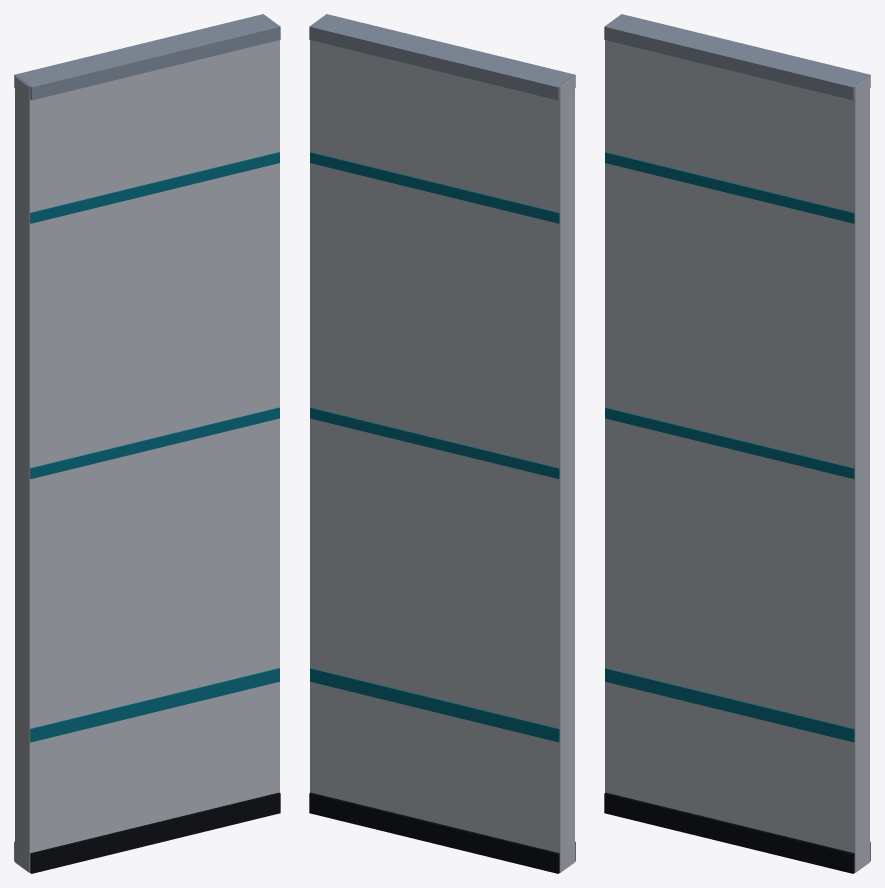
Rendered from SM_Wall_2x6.glb.
The picture shows the model from 3 angles, left to right: view 1: azimuth 30°, elevation 25°; view 2: azimuth 150°, elevation 25°; view 3: azimuth 330°, elevation 25°; orthographic projection.
Parts seen in each view (by area): view 1: SM_Wall_2x6-col; view 2: SM_Wall_2x6-col; view 3: SM_Wall_2x6-col.
Part boxes in pixels (x1,y1,x2,y2): SM_Wall_2x6-col: [14, 14, 280, 873]; SM_Wall_2x6-col: [309, 14, 575, 873]; SM_Wall_2x6-col: [604, 14, 870, 873].
Size of the model in its own units: 2 by 6.01 by 0.24.
